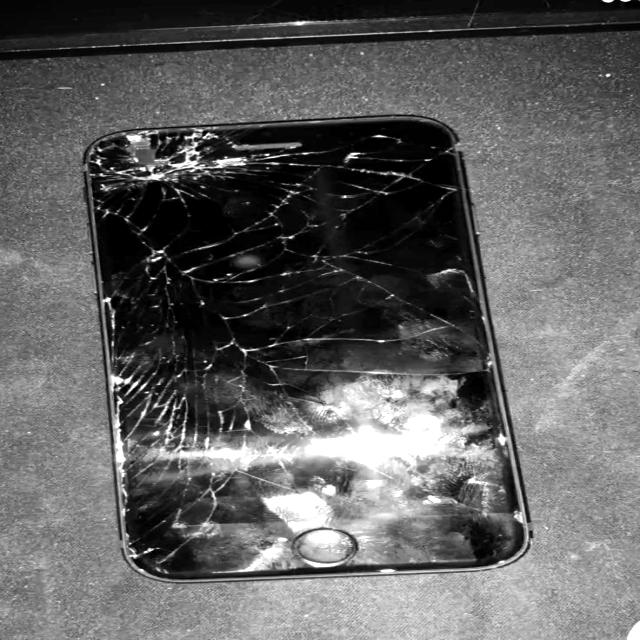Crack: (63, 290, 554, 569), (41, 90, 541, 311)
